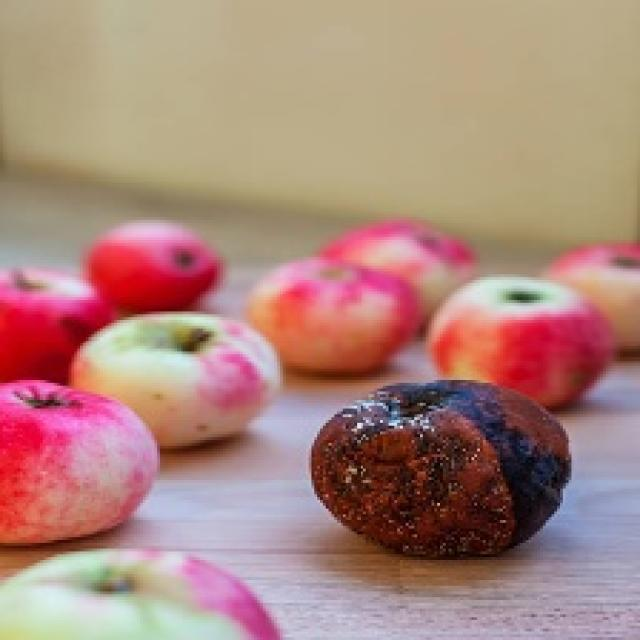100-_ripeness: (0, 399, 162, 543), (0, 563, 277, 640), (438, 267, 609, 377), (284, 263, 426, 367)
rotten_apple: (312, 382, 570, 554), (72, 313, 278, 394)
